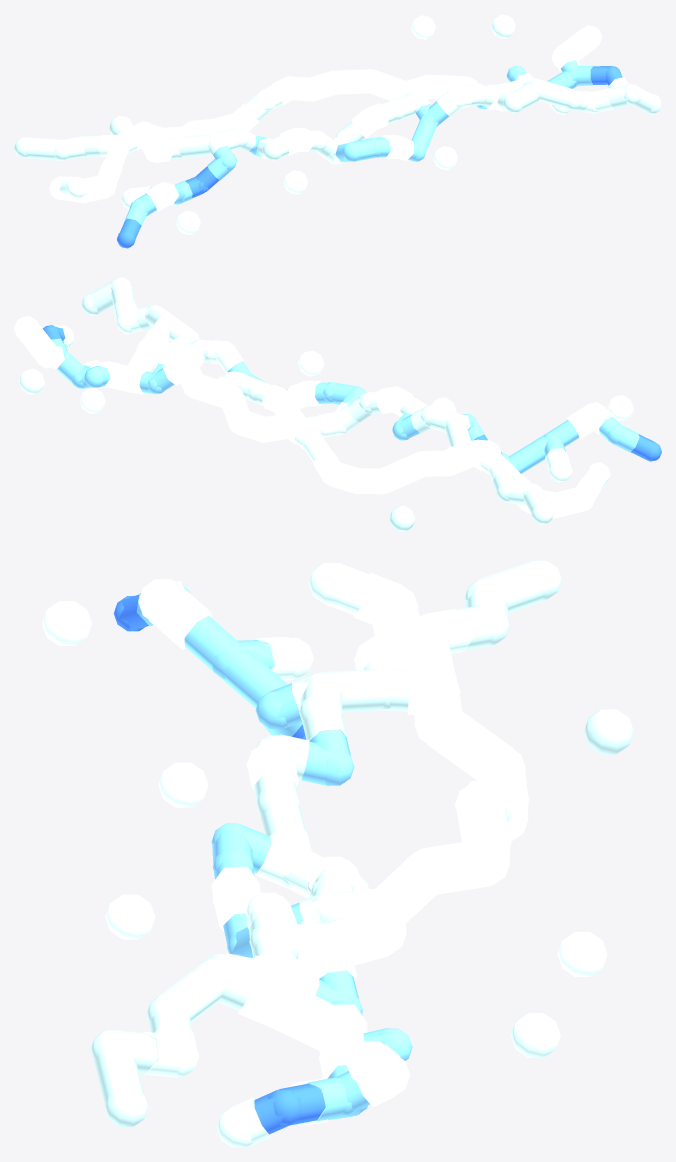
Rendered from fruit_bolt.glb.
The picture shows the model from 3 angles, top to bottom: view 1: azimuth 30°, elevation 25°; view 2: azimuth 150°, elevation 25°; view 3: azimuth 270°, elevation 25°; orthographic projection. The views are drawn at different scales.
Parts seen in each view (by area): view 1: fruit_bolt; view 2: fruit_bolt; view 3: fruit_bolt.
Part boxes in pixels (left/top/right/bottom): fruit_bolt: left=14, top=14, right=661, bottom=248; fruit_bolt: left=14, top=277, right=661, bottom=531; fruit_bolt: left=42, top=560, right=633, bottom=1147.
Bounding box in the file's own units: 23.91 × 2.64 × 11.27.
